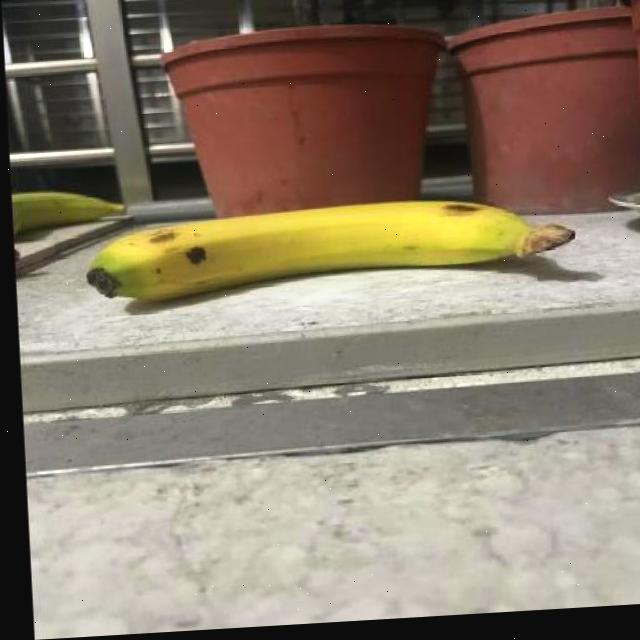banana: (79, 181, 583, 312)
